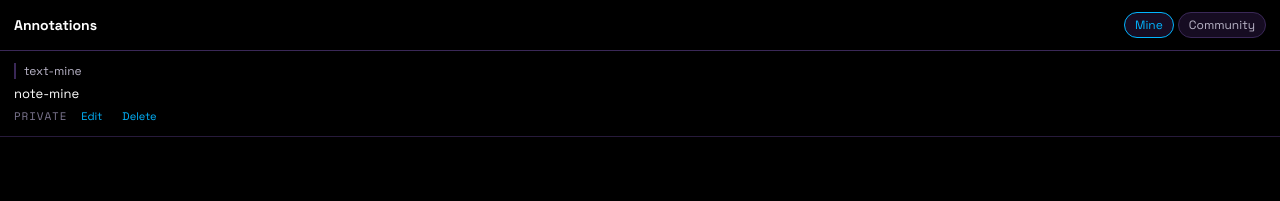
Test: AnnotationPanel › owner sees edit/delete; a moderator sees remove on others' community notes
Check: the list item with test id "annotation-mine" is shown, box x1=0 y1=51 x2=1279 y2=137
Check: the button with test id "annotation-edit-mine" is shown, box x1=75 y1=108 x2=108 y2=124
Click the tab "Community". click: [1222, 25]
box: x1=1178 y1=12 x2=1266 y2=38
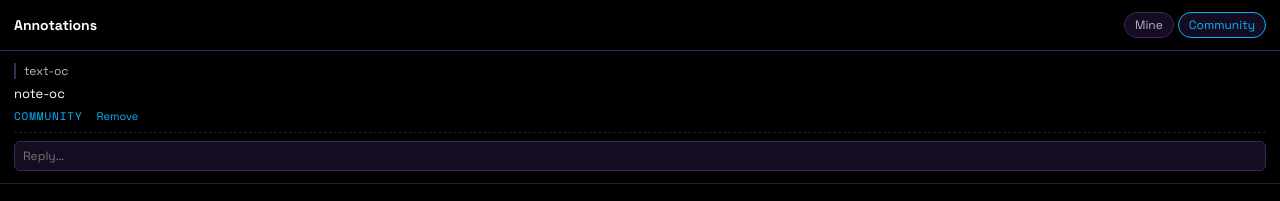
Check: the button with test id "annotation-moderate-oc" is shown, box x1=90 y1=108 x2=144 y2=124
